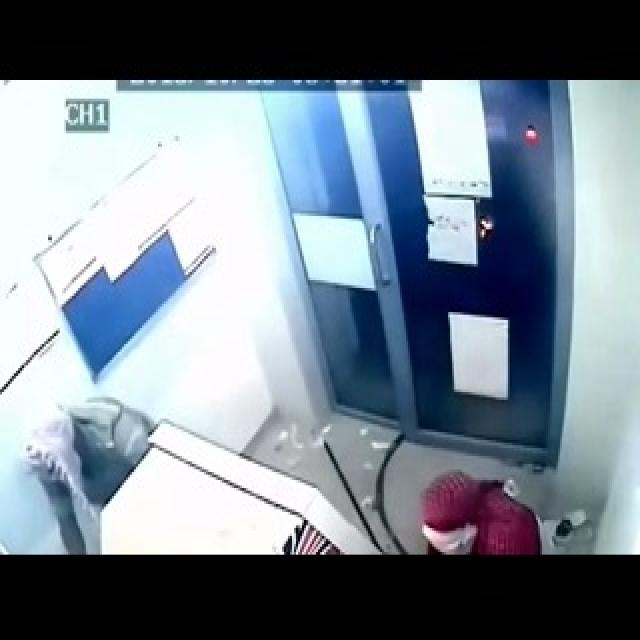thief: (20, 393, 155, 533), (416, 466, 550, 554)
